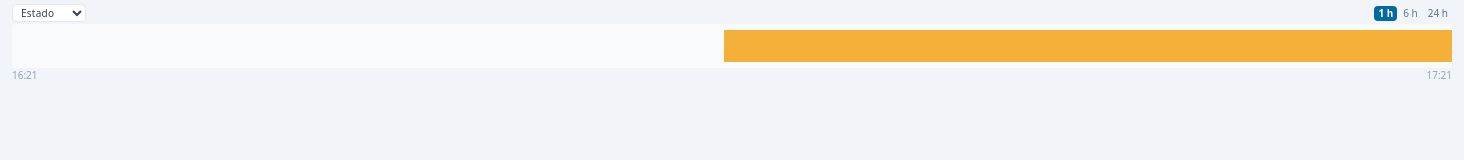
Test case: HistorySparkline: series de atributos › elige entre el estado y los atributos, con etiquetas y unidades en español
Select "Brillo (%)" in the dropdown named "Serie del historial" at (49, 13), box left=12, top=4, right=86, bottom=22
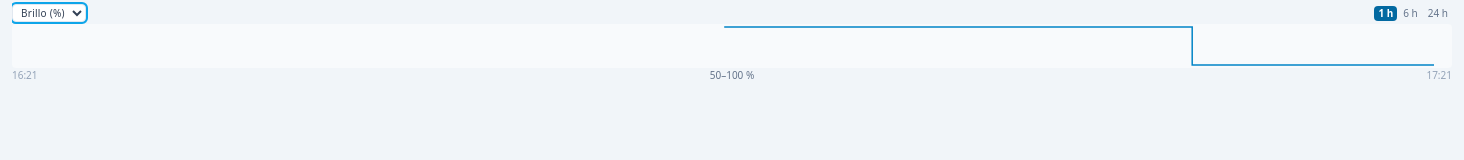
Check: the picture named "mínimo 50 %, máximo 100 %" is shown, box left=12, top=24, right=1452, bottom=68
